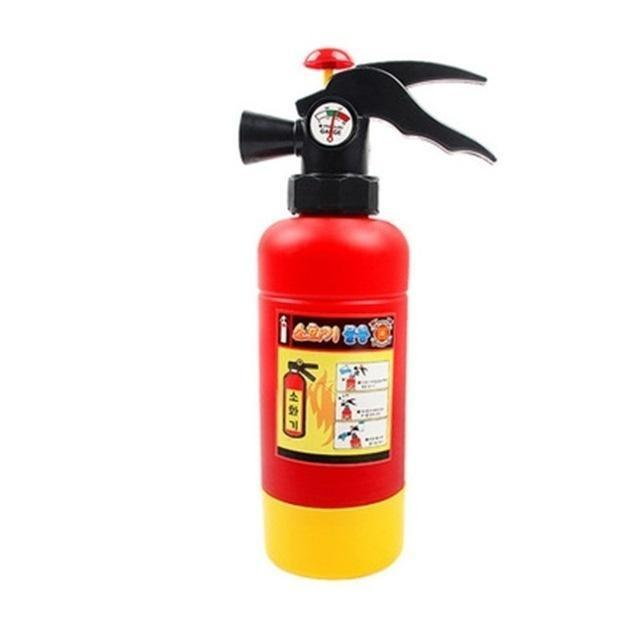fire_extinguisher: (230, 44, 500, 585)
